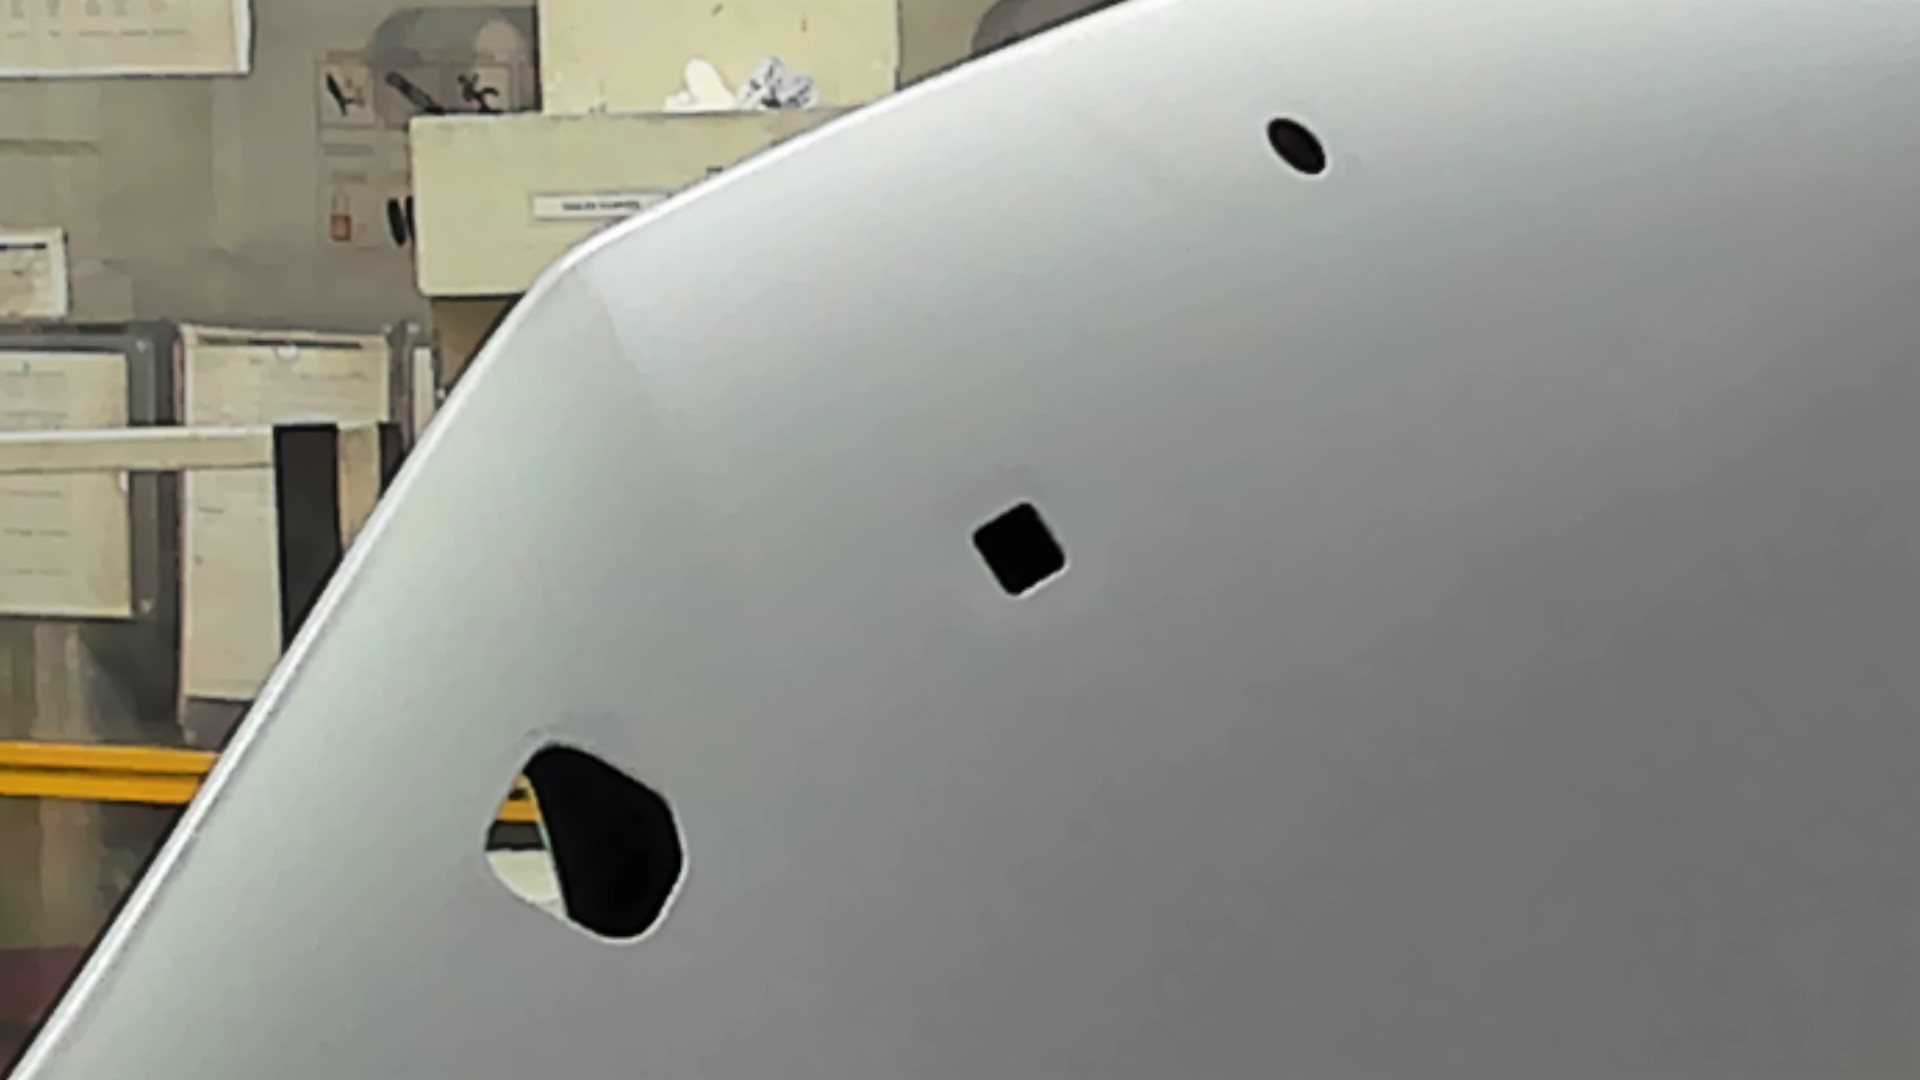chico: (1262, 112, 1331, 175)
grande: (481, 738, 688, 949)
mediano: (971, 498, 1072, 603)
